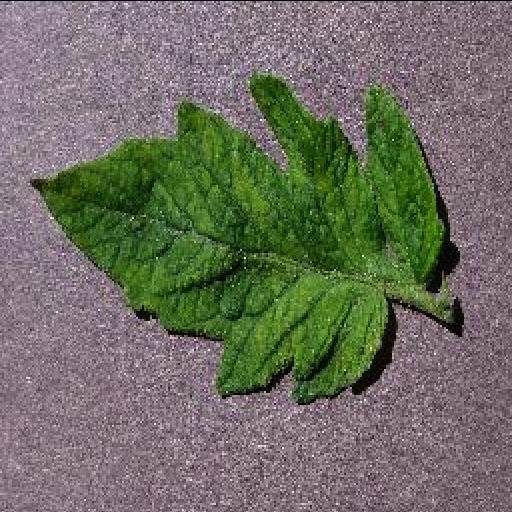Mosaic Virus: (26, 70, 446, 408)
